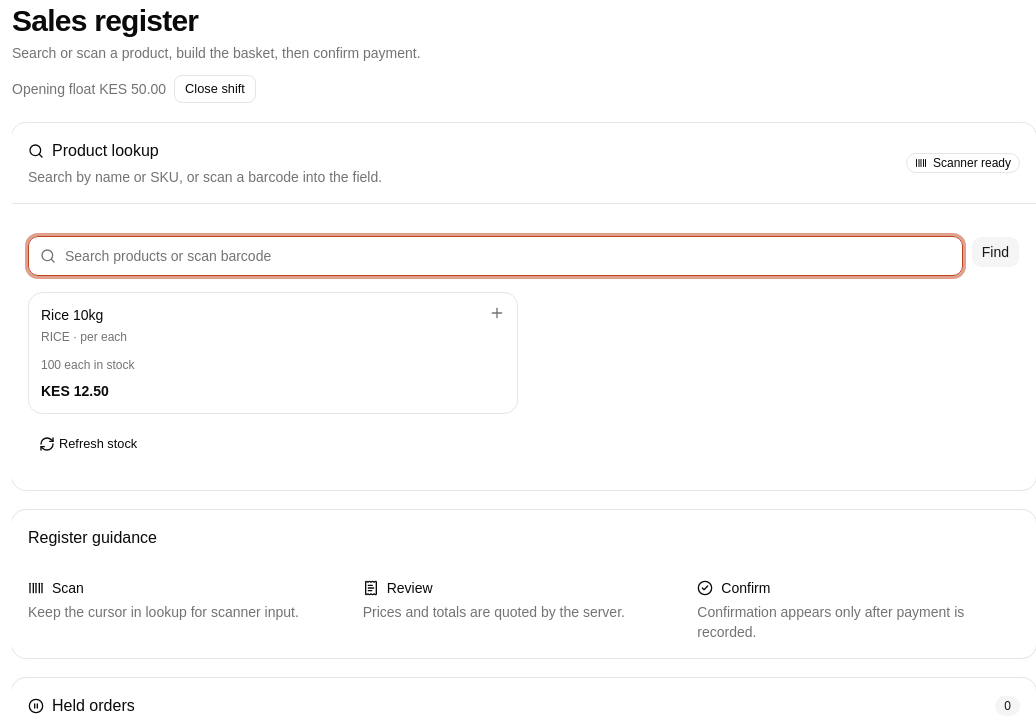
it: holds a basket on the server and resumes it for a fresh quote
This screenshot has width=1036, height=725.
Click the button "Rice 10kg RICE · per each 100 each in stock KES 12.50" at coordinates (72, 315), box [28, 292, 518, 414]
(page scrolled)
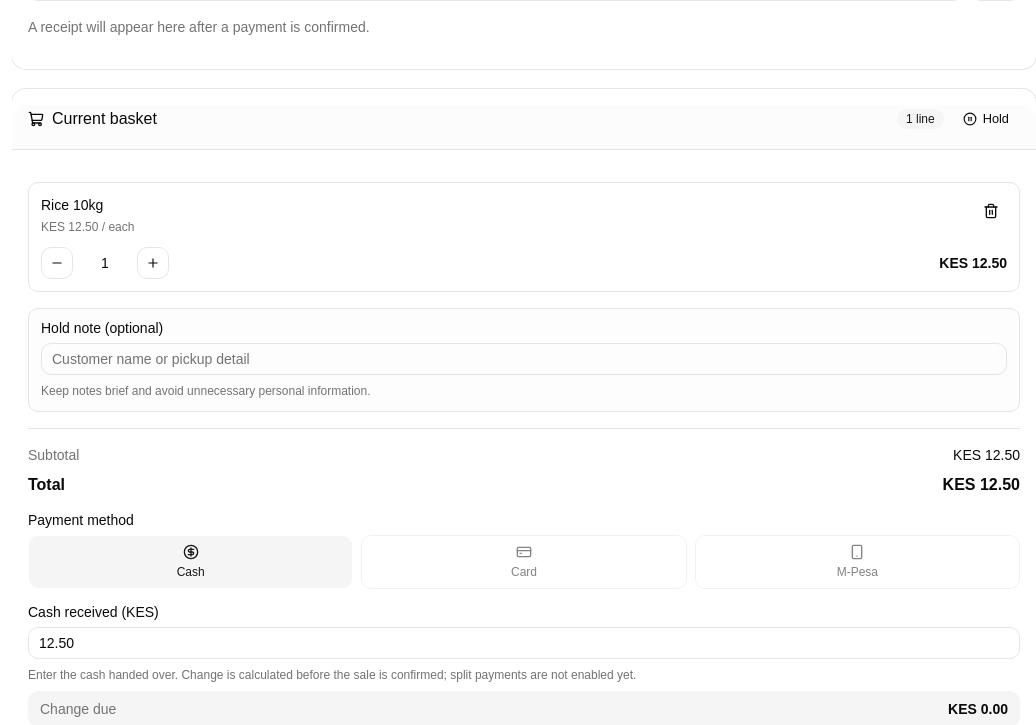
Type "Customer collecting shortly" into the field labelled "Hold note (optional)" at coordinates (524, 359), box [41, 343, 1007, 375]
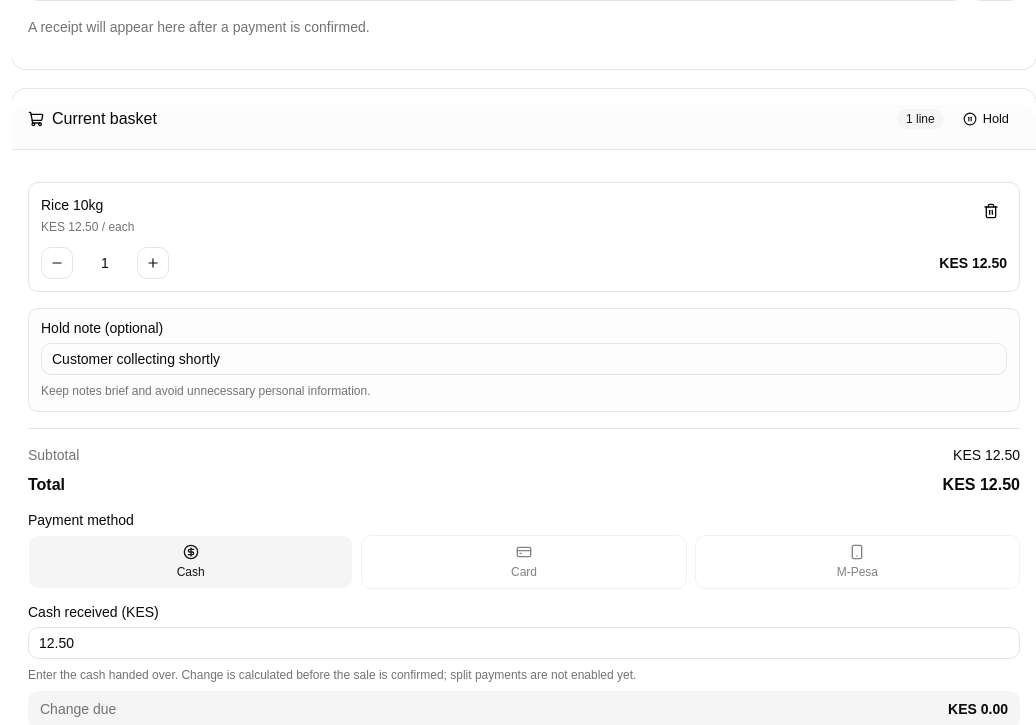
Click the button "Hold" at coordinates (986, 119), box [952, 105, 1020, 133]
(page scrolled)
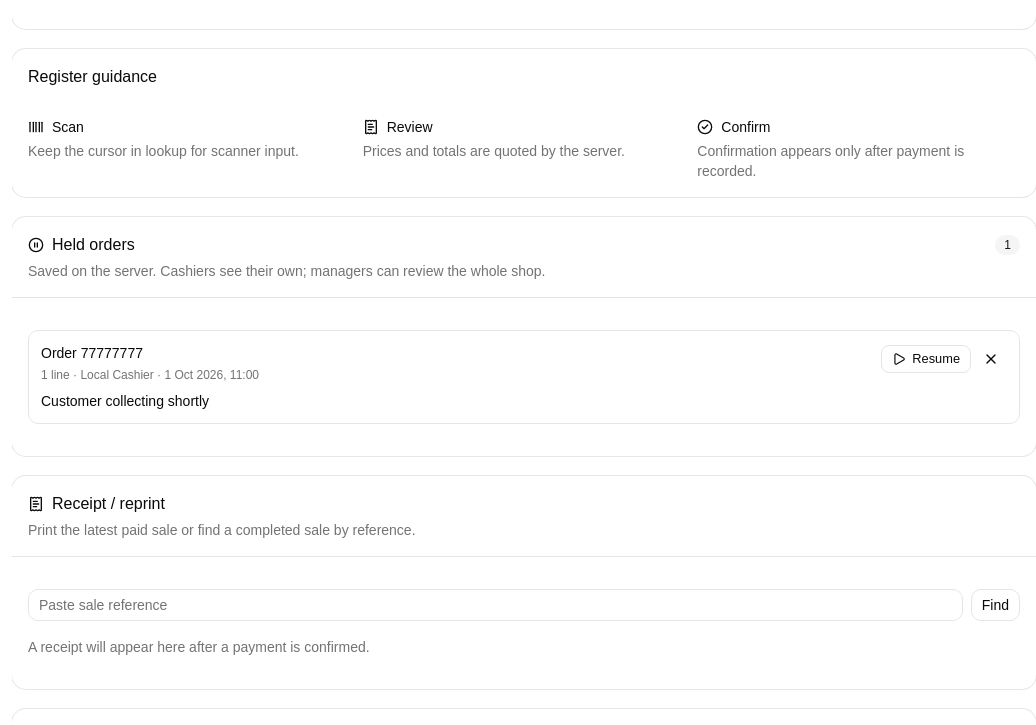
Click the button "Resume" at coordinates (926, 359), box [881, 345, 971, 373]
(page scrolled)
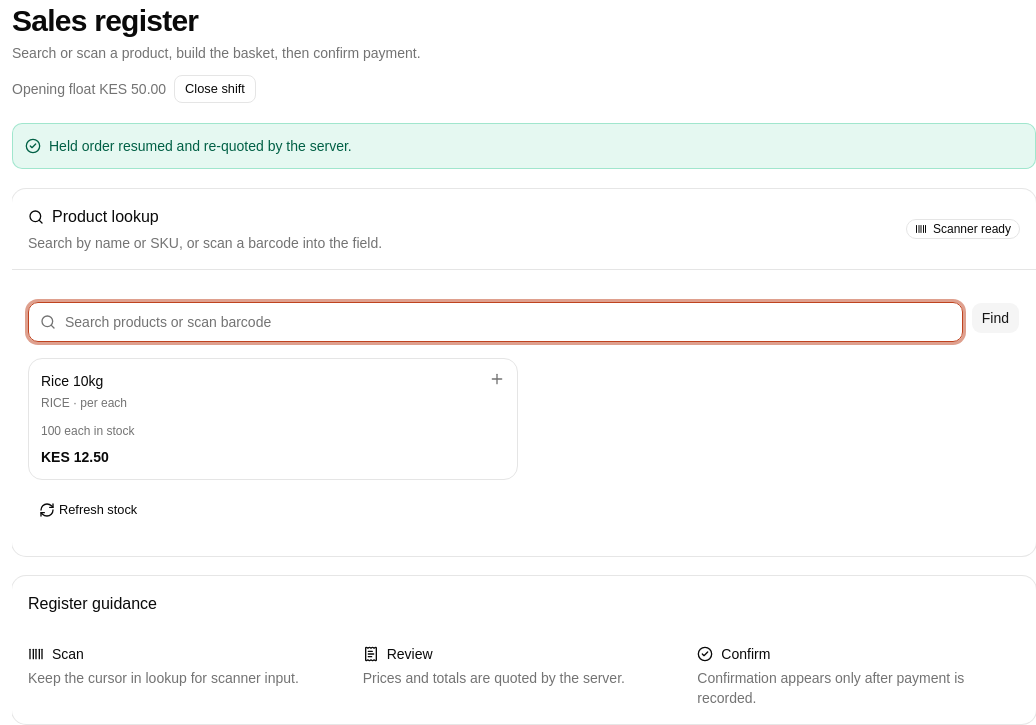
Expected: the text "Held order resumed and re-quoted by the server." is shown, [49, 136, 352, 156]
